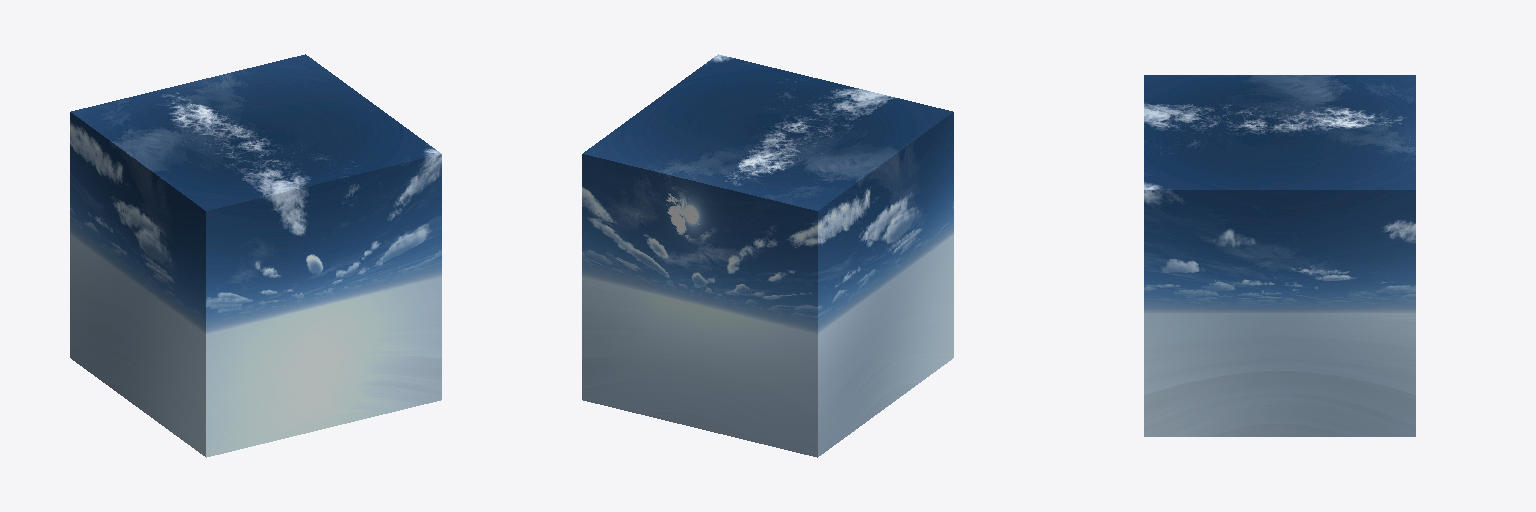
3 renders of one model, left to right at view 1: azimuth 30°, elevation 25°; view 2: azimuth 150°, elevation 25°; view 3: azimuth 270°, elevation 25°, orthographic.
Parts seen in each view (by area): view 1: front, left, top; view 2: back, left, top; view 3: right, top.
Boxes of the visible parts, x1=… form: front: x1=206, y1=154, x2=441, y2=457; left: x1=70, y1=112, x2=205, y2=456; top: x1=71, y1=54, x2=440, y2=210; back: x1=582, y1=154, x2=817, y2=457; left: x1=818, y1=112, x2=953, y2=456; top: x1=583, y1=54, x2=952, y2=210; right: x1=1144, y1=190, x2=1415, y2=436; top: x1=1144, y1=75, x2=1415, y2=189.
Size of the model in its own units: 1 by 1 by 1.
Materials: 6 (6 with a texture image).